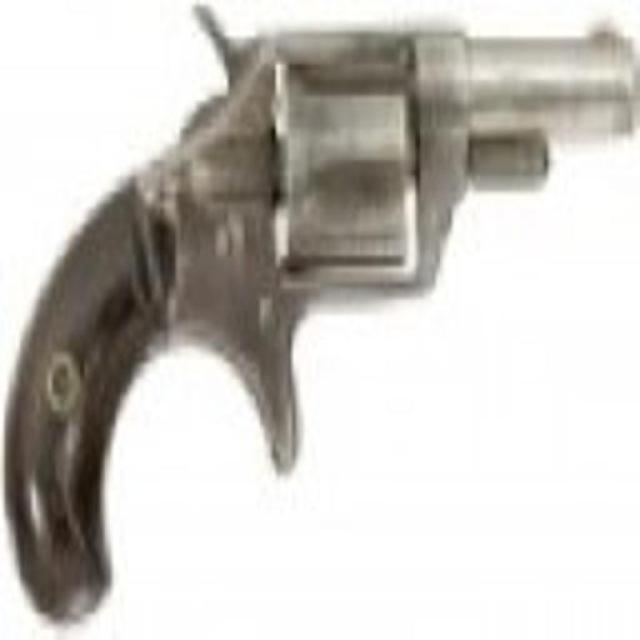pistol: (7, 15, 631, 617)
